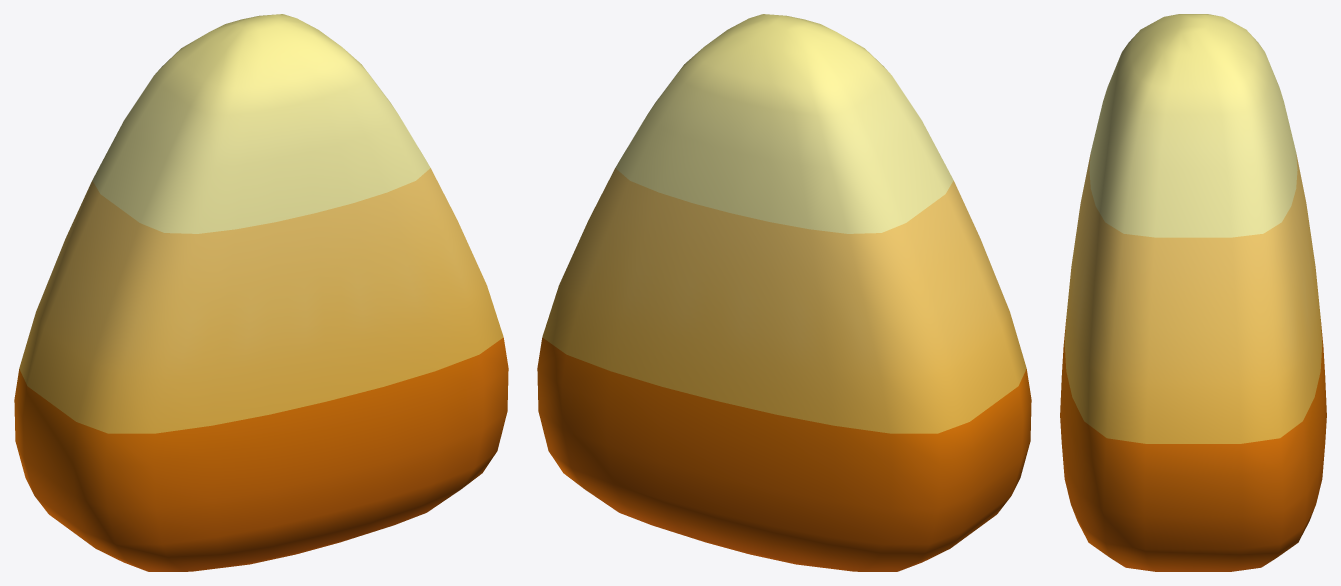
The model's file is gen_candyCorn.fbx.
3 views of the same model, side by side, from view 1: azimuth 30°, elevation 25°; view 2: azimuth 150°, elevation 25°; view 3: azimuth 270°, elevation 25° (orthographic). The views are drawn at different scales.
Parts seen in each view (by area): view 1: MeshParent; view 2: MeshParent; view 3: MeshParent.
Part boxes in pixels (<box>): MeshParent: <box>14,14,508,571</box>; MeshParent: <box>537,14,1031,571</box>; MeshParent: <box>1060,14,1326,571</box>.
Size of the model in its own units: 1 by 1.17 by 0.5581.
1 material, 1 textured.
